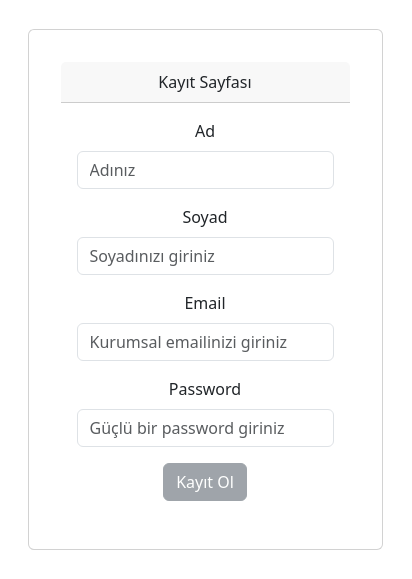
it: Forms Page › Error Messages › name input throws error for 2 chars
Type "ha" into the field with test id "ad-input". click: (206, 170)
box: [77,151,334,189]
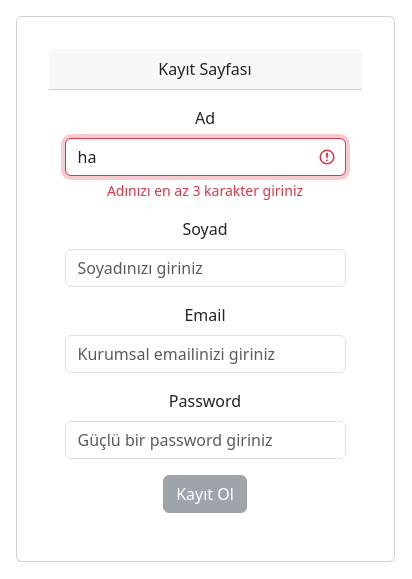
Result: the text "Adınızı en az 3 karakter giriniz" is shown at [107,181,303,200]
